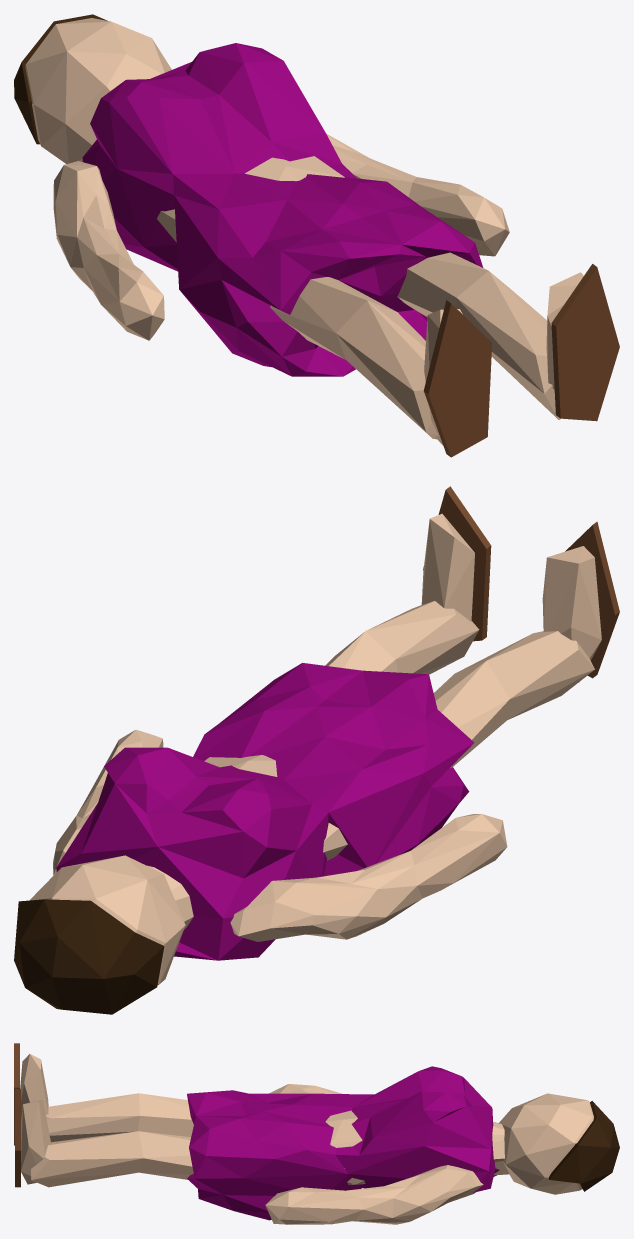
File: female_villager.fbx
3 renders of one model, top to bottom at view 1: azimuth 30°, elevation 25°; view 2: azimuth 150°, elevation 25°; view 3: azimuth 270°, elevation 25°, orthographic. The views are drawn at different scales.
Parts seen in each view (by area): view 1: Cube.000; view 2: Cube.000; view 3: Cube.000.
Part boxes in pixels (bbox=[...]): Cube.000: bbox=[14, 14, 619, 457]; Cube.000: bbox=[14, 486, 619, 1014]; Cube.000: bbox=[14, 1043, 619, 1224].
Size of the model in its own units: 12535 by 6866 by 26830.
